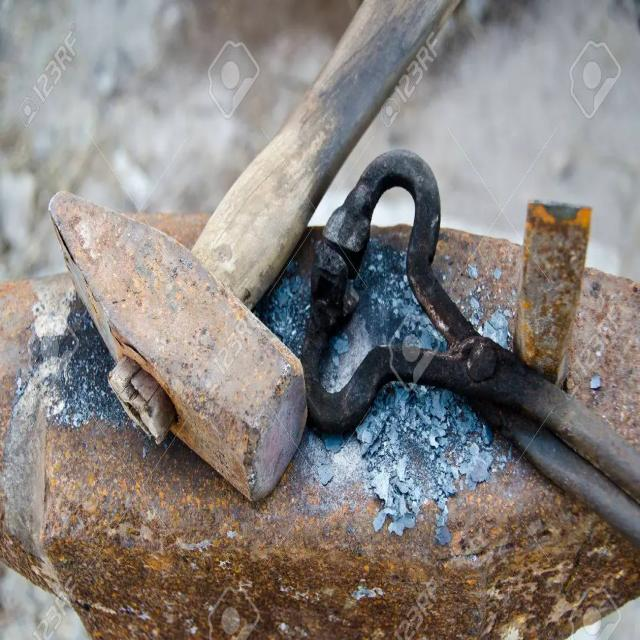hammer: (42, 0, 468, 525)
